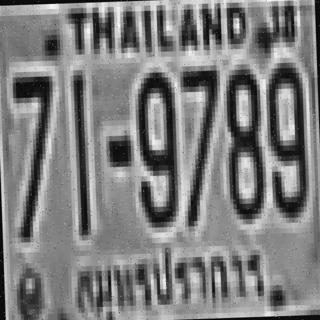N01: (70, 70, 91, 235)
N07: (12, 71, 54, 238), (180, 62, 222, 224), (180, 62, 220, 188), (12, 71, 52, 185)
N08: (222, 61, 264, 217)
N09: (134, 67, 176, 223), (265, 57, 307, 213)
P57: (68, 242, 270, 318)
